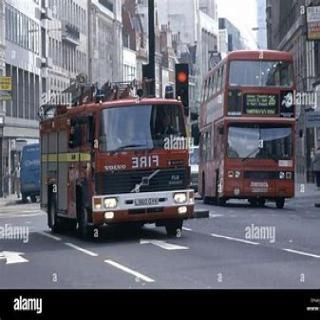Fire_truck: (37, 77, 195, 239)
